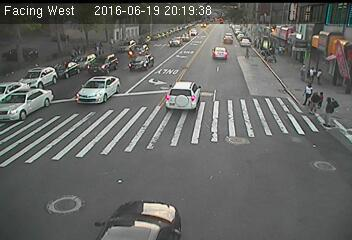neg: (58, 173, 85, 210), (179, 168, 205, 203), (70, 117, 95, 150), (112, 71, 133, 99), (176, 73, 195, 99), (251, 144, 270, 168), (124, 173, 142, 198), (219, 117, 237, 141), (307, 156, 325, 180), (69, 54, 86, 76), (217, 41, 233, 63), (30, 69, 44, 87)
pos: (321, 93, 344, 123), (301, 80, 318, 103), (308, 91, 324, 113)
